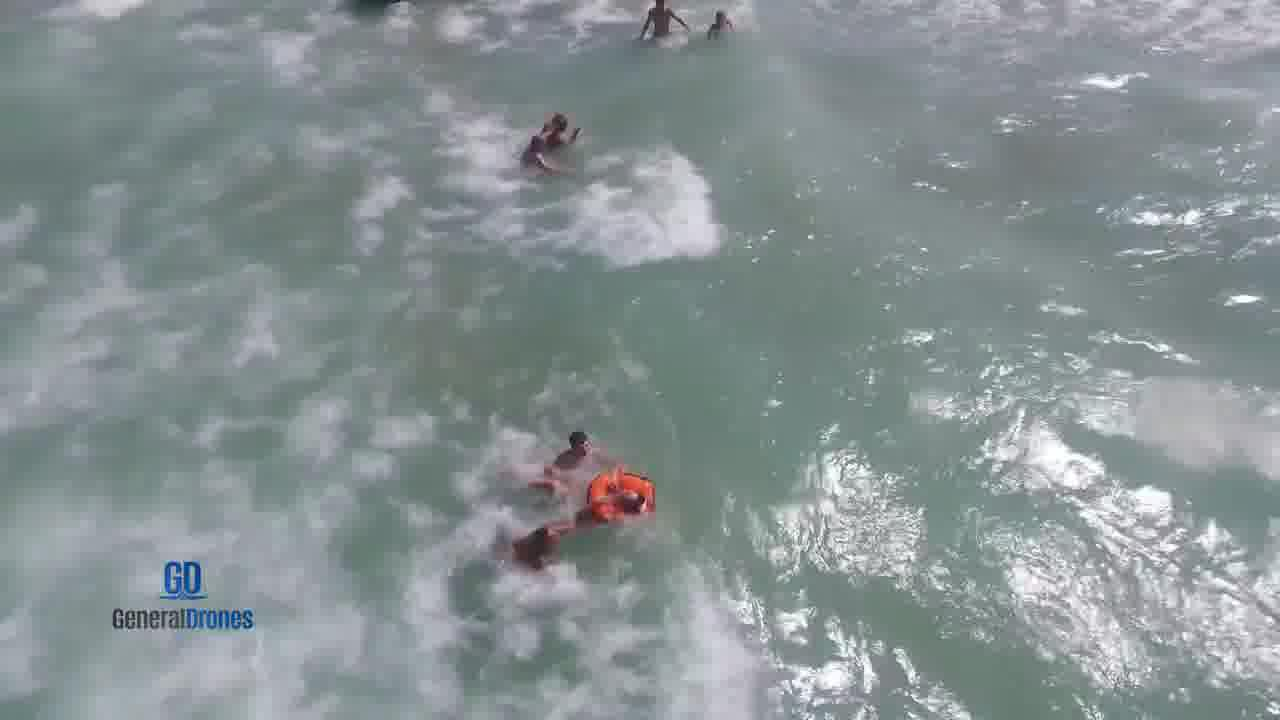swimmer: (542, 87, 593, 151), (601, 472, 666, 516), (509, 515, 563, 557), (550, 418, 601, 459), (696, 8, 749, 45), (514, 118, 547, 177), (628, 8, 681, 38)
